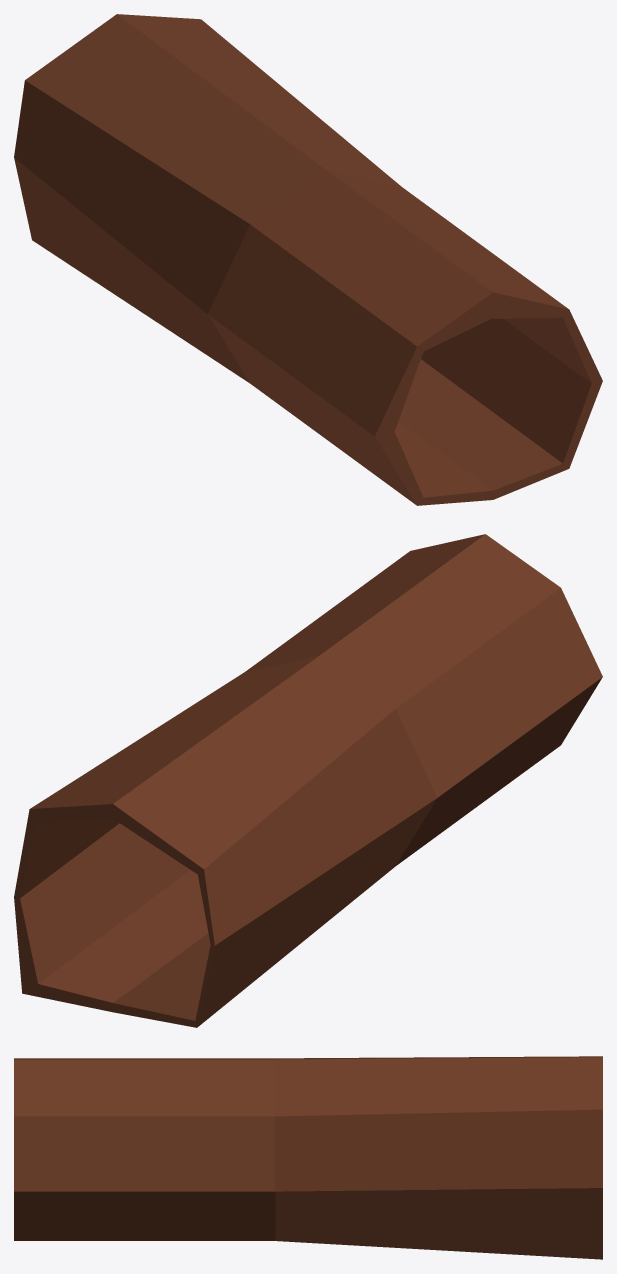
File: tree trunk.fbx
The picture shows the model from 3 angles, top to bottom: view 1: azimuth 30°, elevation 25°; view 2: azimuth 150°, elevation 25°; view 3: azimuth 270°, elevation 25°; orthographic projection. The views are drawn at different scales.
Parts seen in each view (by area): view 1: holle_boomstam; view 2: holle_boomstam; view 3: holle_boomstam.
Boxes of the visible parts, <box> form: holle_boomstam: <box>14,14,602,505</box>; holle_boomstam: <box>14,534,602,1027</box>; holle_boomstam: <box>14,1056,602,1259</box>.
Size of the model in its own units: 2.31 by 2.07 by 6.61.
Materials: 1 (1 with a texture image).
